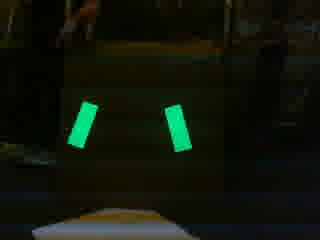target: (65, 100, 195, 155)
